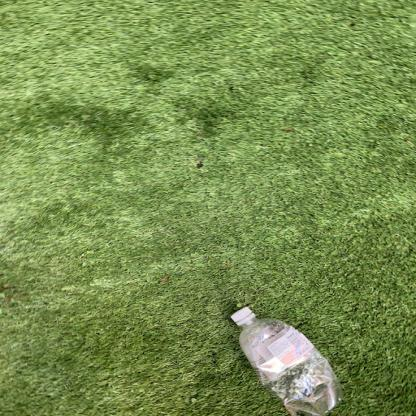trash: (229, 306, 354, 416)
